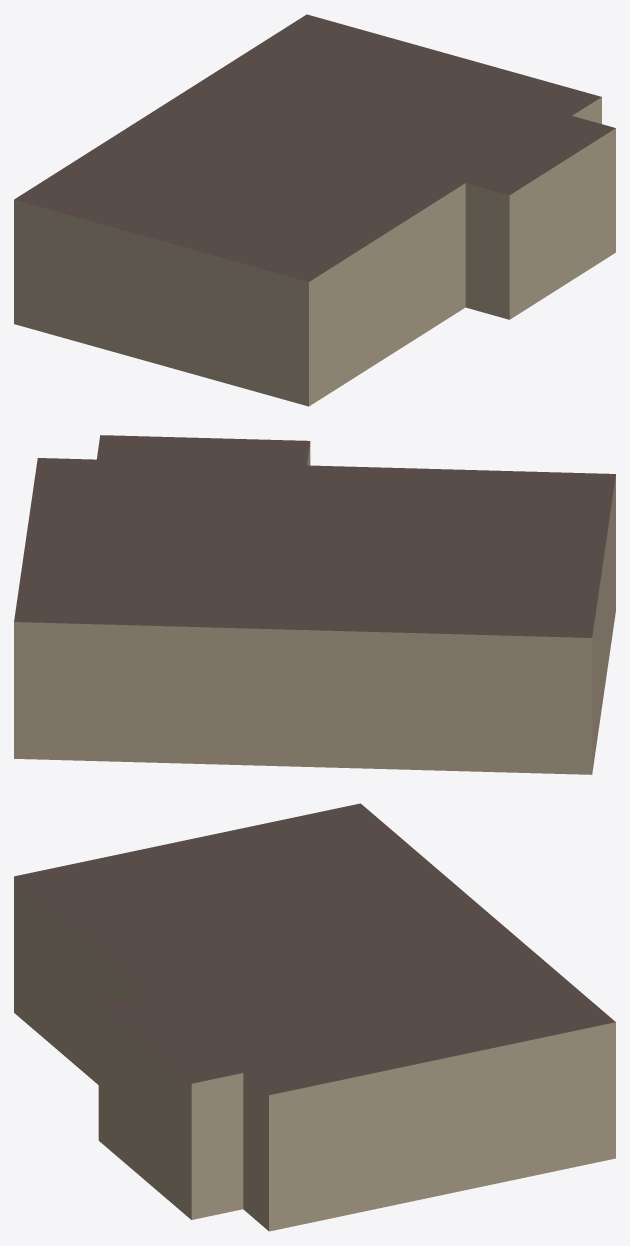
3 views of the same model, one above another, from view 1: azimuth 30°, elevation 25°; view 2: azimuth 150°, elevation 25°; view 3: azimuth 270°, elevation 25° (orthographic). The views are drawn at different scales.
Visible parts, largest first — view 1: HP-w1460171664; view 2: HP-w1460171664; view 3: HP-w1460171664.
Part boxes in pixels (box(x1,y1,x2,y2)): HP-w1460171664: box(14, 14, 615, 406); HP-w1460171664: box(14, 435, 615, 774); HP-w1460171664: box(14, 803, 615, 1231).
Bounding box in the file's own units: 41.33 × 9 × 36.02.
